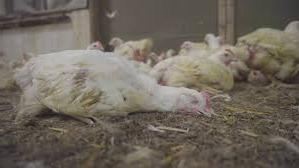AbNormal: (15, 47, 214, 119)
